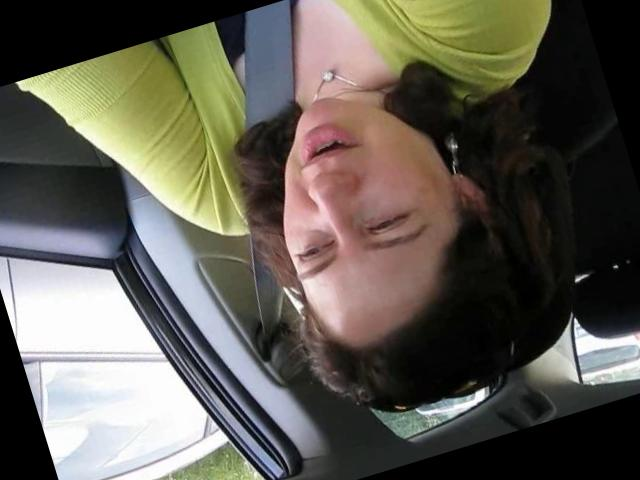eye_open: (358, 204, 416, 242), (288, 234, 337, 270)
face: (240, 70, 458, 314)
